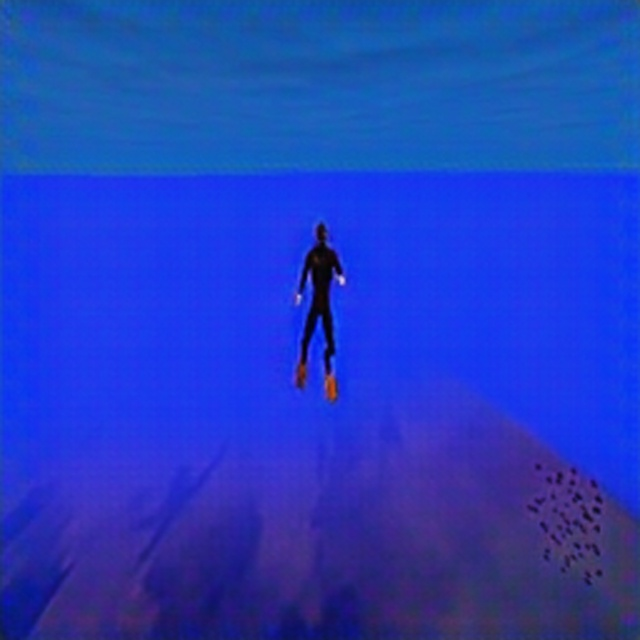diver: (291, 218, 347, 400)
